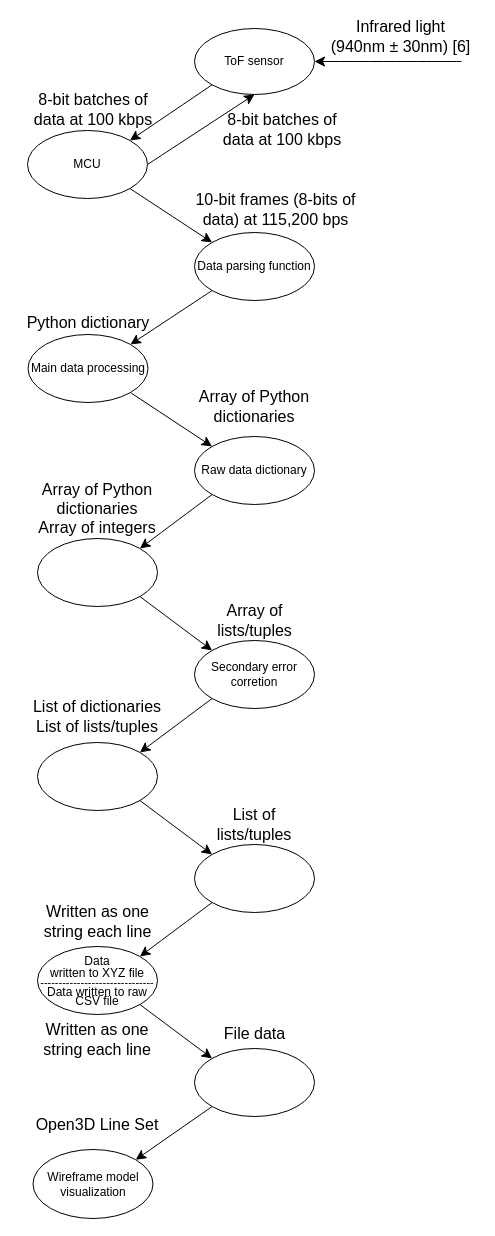
The diagram is 495 pixels wide and 1236 high, and some of its shapes have lost their labels. The centre of each missing label's shape, as x and y in pixels:
"Array of XYZ coordinate data" belongs at [254,878].
"Error Handling" belongs at [97,572].
"Point cloud mesh visualization" belongs at [254,1082].
"Processed data dictionary" belongs at [97,776].
